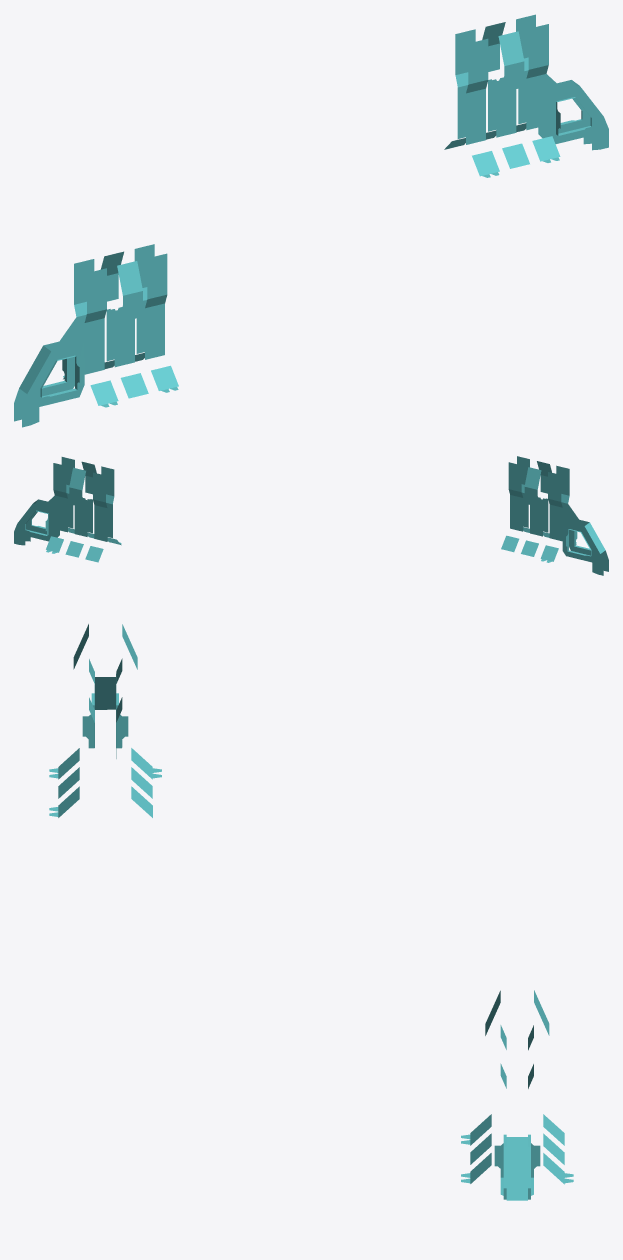
The model's file is cluster19.fbx.
3 renders of one model, top to bottom at view 1: azimuth 30°, elevation 25°; view 2: azimuth 150°, elevation 25°; view 3: azimuth 270°, elevation 25°, orthographic. The views are drawn at different scales.
Parts seen in each view (by area): view 1: cluster19; view 2: cluster19; view 3: cluster19.
Part boxes in pixels (box(x1,y1,x2,y2)): cluster19: box(14, 14, 608, 427); cluster19: box(14, 456, 608, 575); cluster19: box(49, 624, 573, 1200).
Size of the model in its own units: 627711 by 127151 by 292849.
